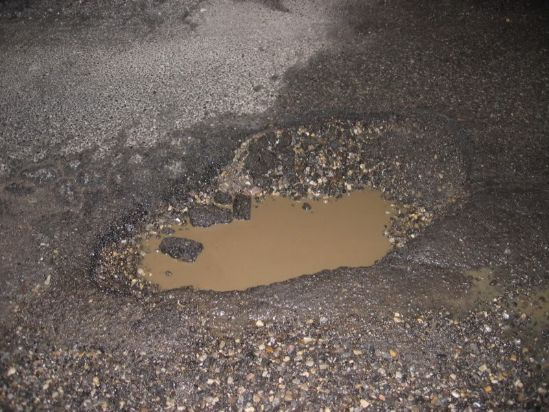pothole: (85, 107, 472, 300)
